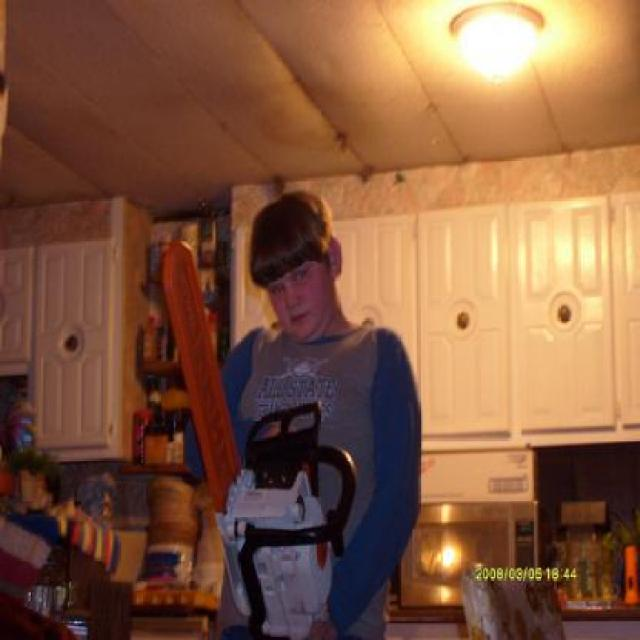Chainsaw: (162, 240, 360, 638)
